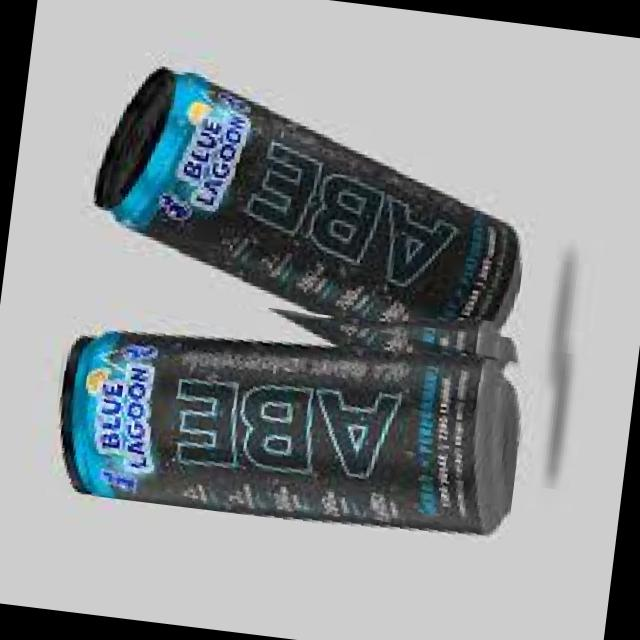Cans: (38, 258, 534, 546), (71, 49, 549, 338)
